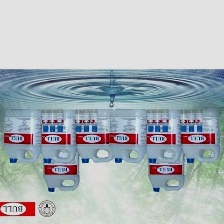cleaning_solution: (72, 105, 116, 166), (43, 126, 81, 193), (38, 106, 79, 167), (1, 105, 43, 164), (107, 106, 148, 164), (147, 136, 186, 195), (143, 109, 184, 165), (180, 107, 220, 162)
